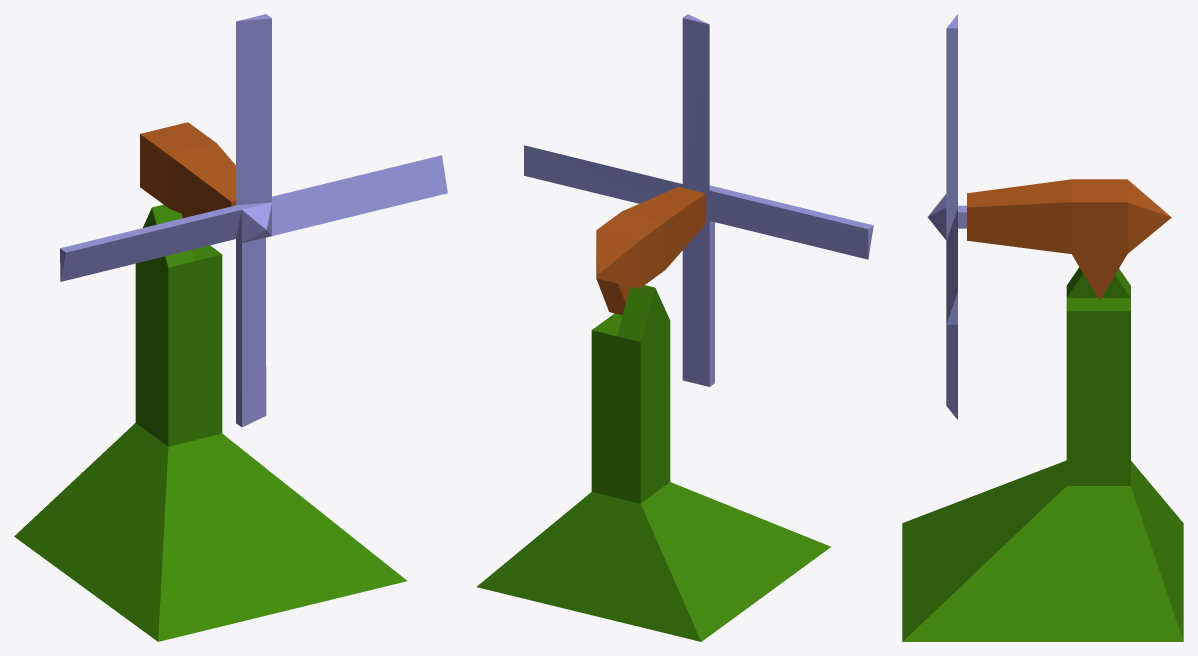
File: fan.obj
3 renders of one model, left to right at view 1: azimuth 30°, elevation 25°; view 2: azimuth 150°, elevation 25°; view 3: azimuth 270°, elevation 25°, orthographic. The views are drawn at different scales.
Visible parts, largest first — view 1: Box001, Box003, Box002; view 2: Box001, Box003, Box002; view 3: Box001, Box002, Box003.
Boxes of the visible parts, x1=… form: Box001: x1=14, y1=204, x2=406, y2=641; Box003: x1=60, y1=14, x2=447, y2=427; Box002: x1=140, y1=122, x2=235, y2=218; Box001: x1=477, y1=285, x2=830, y2=641; Box003: x1=524, y1=14, x2=873, y2=386; Box002: x1=596, y1=187, x2=705, y2=315; Box001: x1=902, y1=267, x2=1183, y2=641; Box002: x1=967, y1=179, x2=1171, y2=300; Box003: x1=927, y1=14, x2=966, y2=419.
Bounding box in the file's own units: 15.06 × 21.62 × 9.84.
